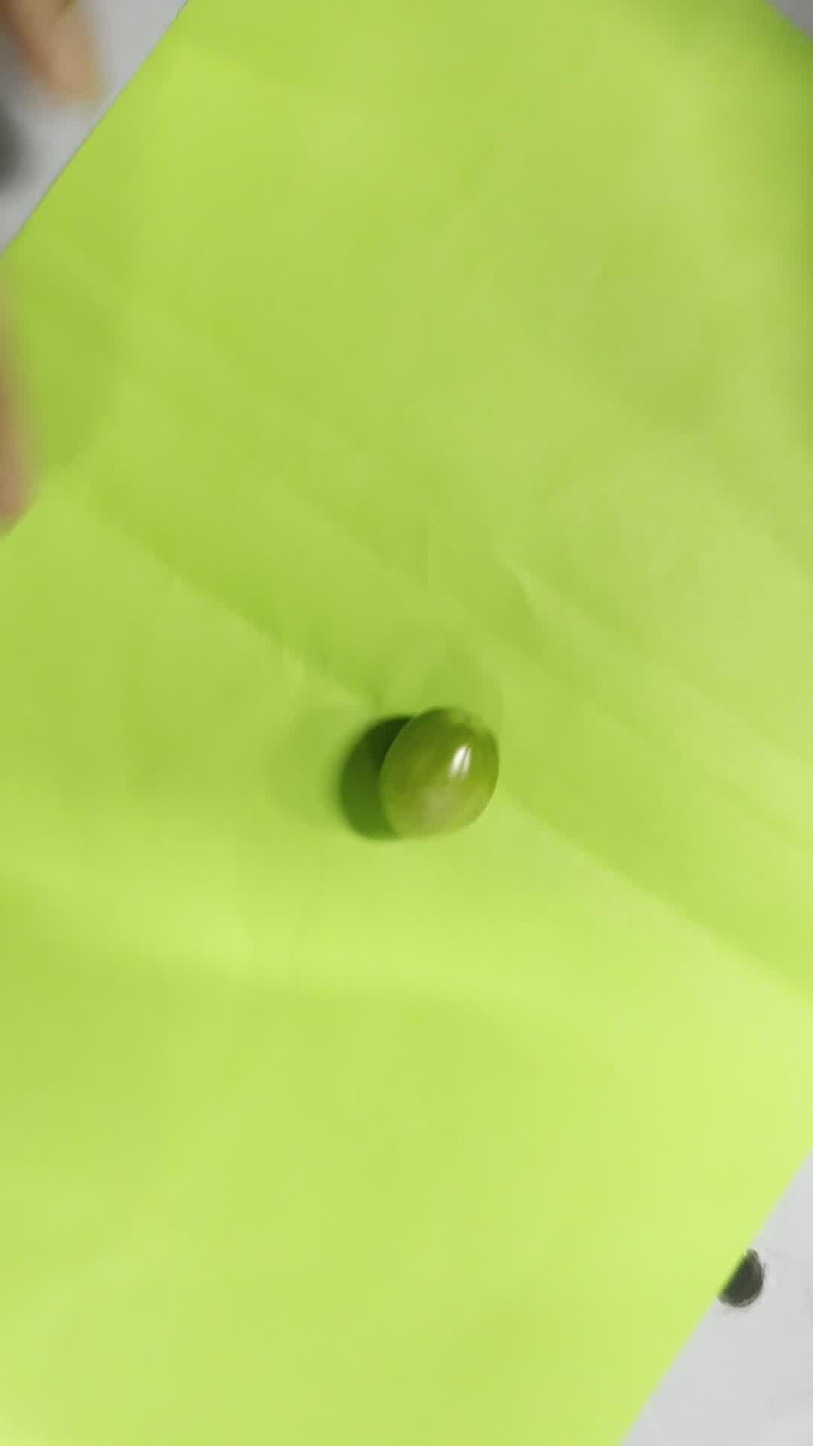green_cherry_tomato: (379, 708, 498, 836)
